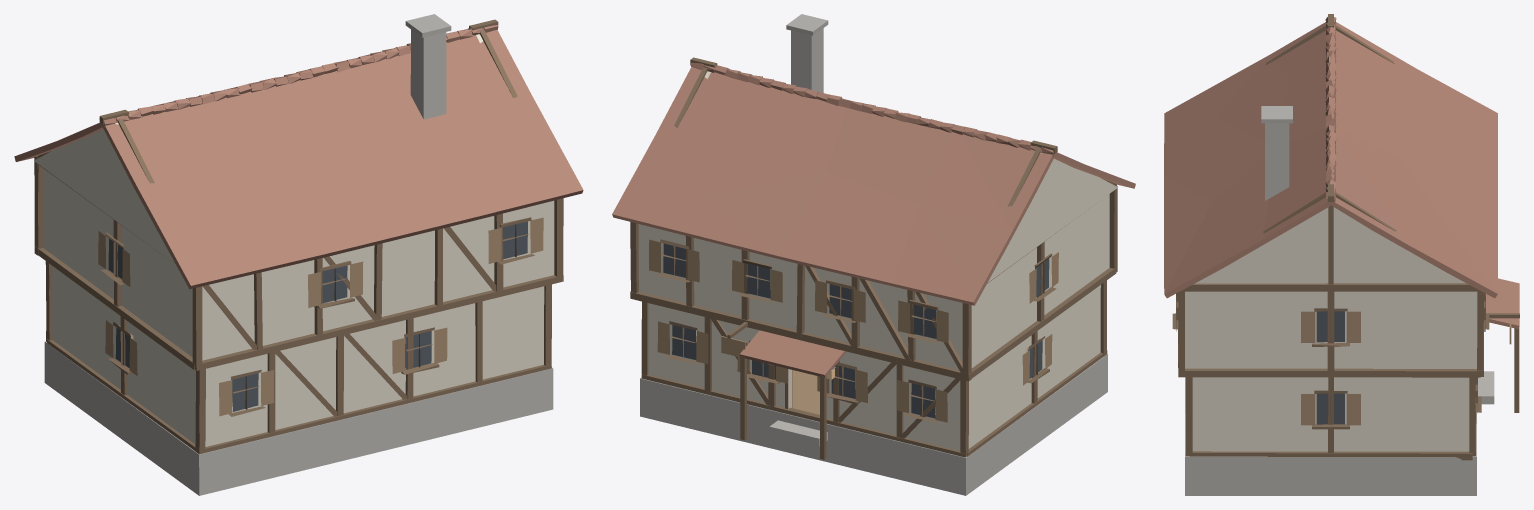
File: inn_lod1.glb
3 renders of one model, left to right at view 1: azimuth 30°, elevation 25°; view 2: azimuth 150°, elevation 25°; view 3: azimuth 270°, elevation 25°, orthographic. The views are drawn at different scales.
Parts seen in each view (by area): view 1: inn.001; view 2: inn.001; view 3: inn.001.
Part boxes in pixels (box(x1,y1,x2,y2)): inn.001: box(14, 14, 583, 495); inn.001: box(612, 14, 1135, 495); inn.001: box(1164, 14, 1519, 495).
Size of the model in its own units: 13.7 by 12.21 by 11.3.
